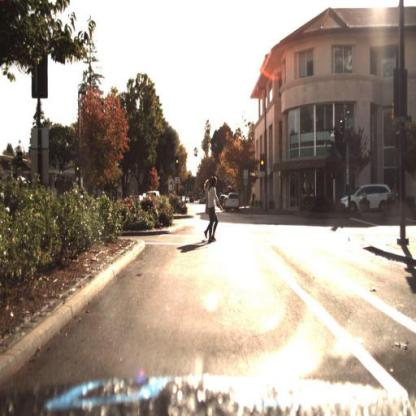car: (342, 183, 395, 215)
pedestrian: (209, 177, 222, 245), (204, 172, 213, 240), (250, 191, 258, 216)
trafficLight-Green: (173, 156, 181, 170)
trafficLight-Yellow: (74, 166, 83, 182), (260, 153, 266, 175)
